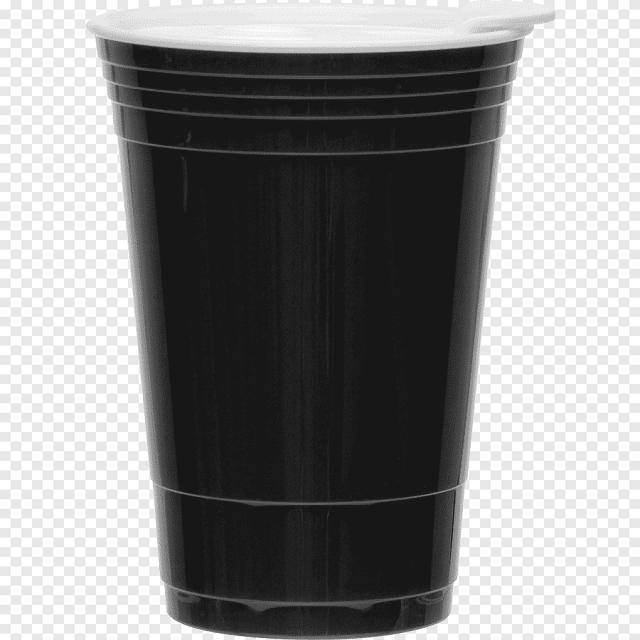Gelas: (78, 3, 564, 640)
